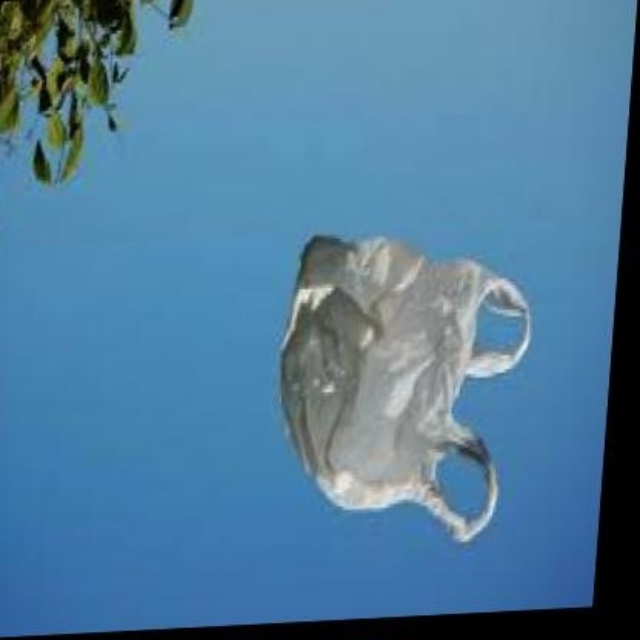trash: (282, 235, 529, 540)
